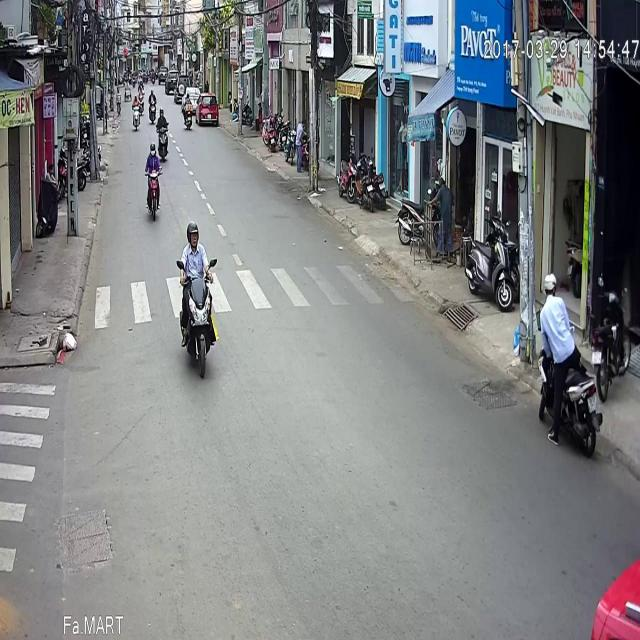car: (196, 34, 218, 68)
motorcycle: (536, 212, 602, 398), (179, 162, 215, 316), (144, 83, 161, 160), (156, 48, 168, 104), (182, 35, 192, 71), (147, 31, 157, 66), (132, 37, 140, 72)
